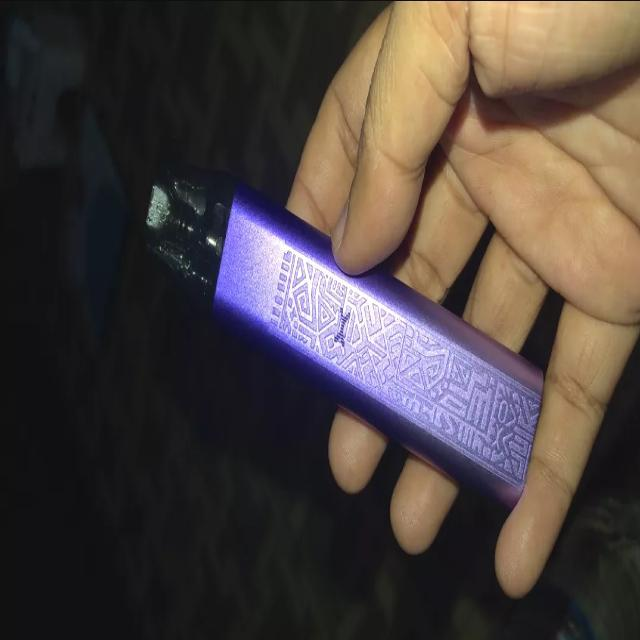Hazard: (141, 162, 546, 518)
